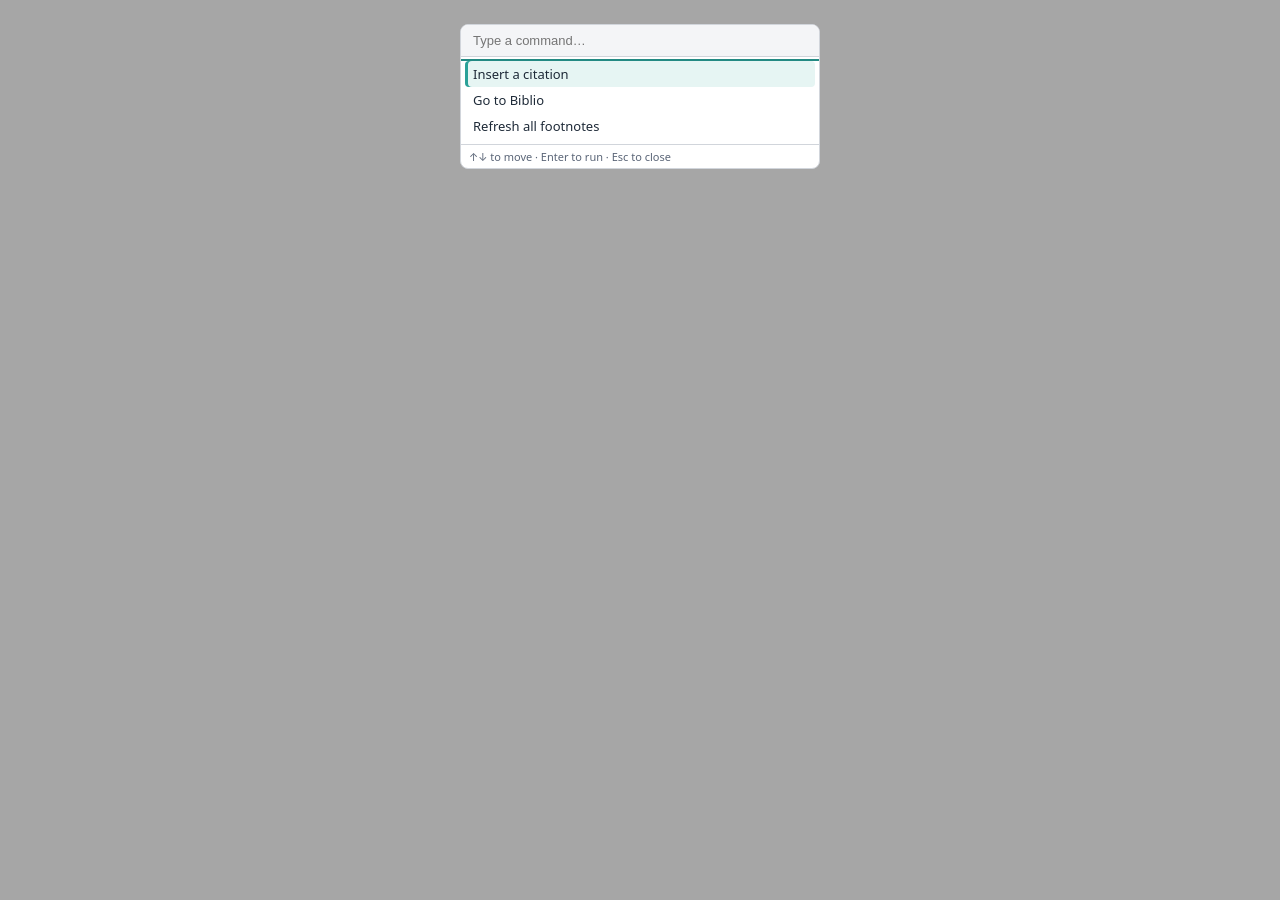
Test: CommandPalette › filters commands by typed query
Type "refresh" into the dropdown. click: [640, 41]
box: [461,25,819,57]
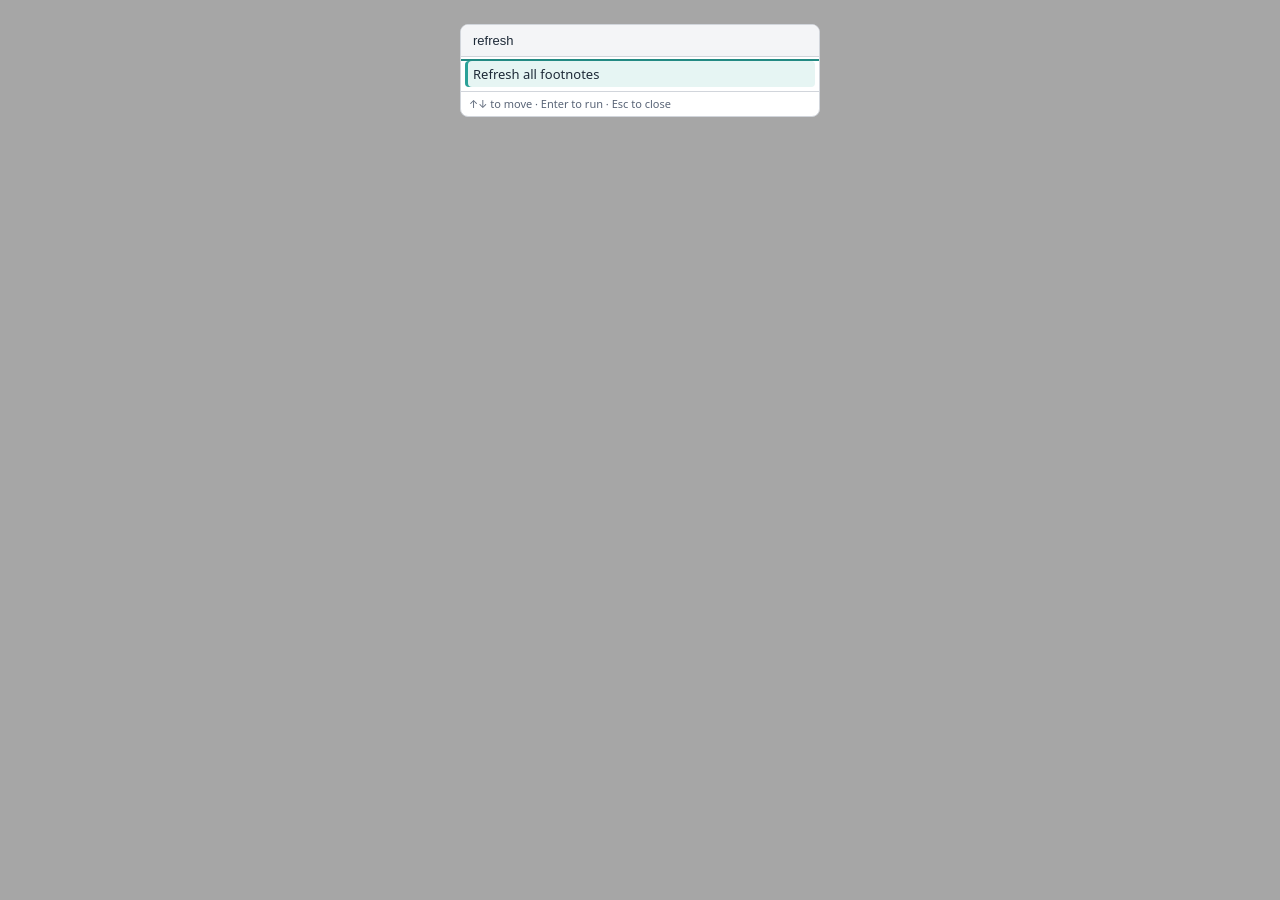
expect the option reads "Refresh all footnotes": met, box [465,61,815,87]
expect the number of options is 1: met, box [465,61,815,87]
